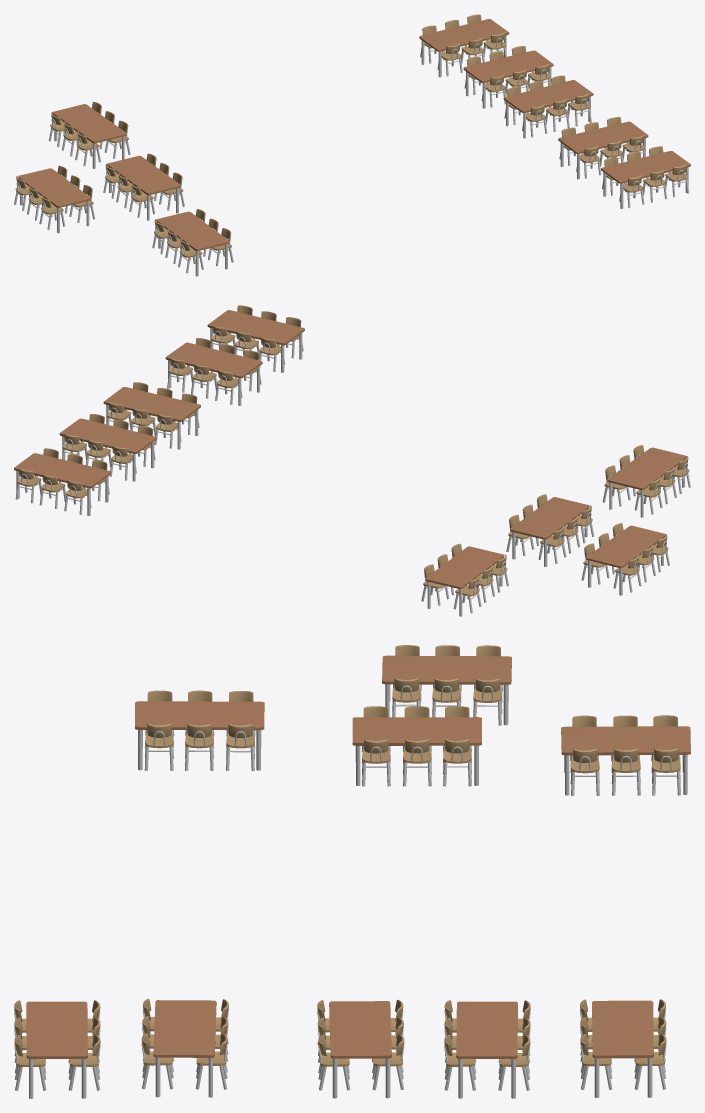
The picture shows the model from 3 angles, top to bottom: view 1: azimuth 30°, elevation 25°; view 2: azimuth 150°, elevation 25°; view 3: azimuth 270°, elevation 25°; orthographic projection. The views are drawn at different scales.
Parts seen in each view (by area): view 1: Tischgruppe 6er.001; view 2: Tischgruppe 6er.001; view 3: Tischgruppe 6er.001.
Part boxes in pixels (x1,y1,x2,y2): Tischgruppe 6er.001: [14, 14, 690, 276]; Tischgruppe 6er.001: [14, 305, 690, 616]; Tischgruppe 6er.001: [14, 645, 690, 1098].
Size of the model in its own units: 20.22 by 1.25 by 14.37.
Materials: 2 (2 with a texture image).
